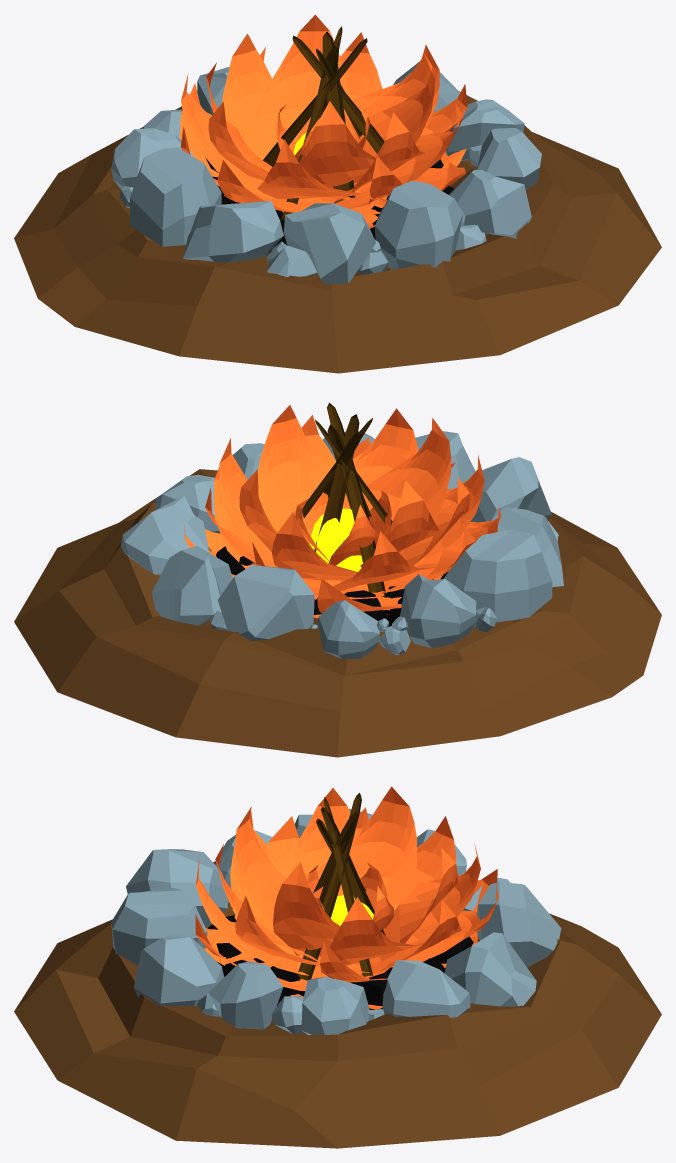
The model's file is bonflower in rock ring.fbx.
3 renders of one model, top to bottom at view 1: azimuth 30°, elevation 25°; view 2: azimuth 150°, elevation 25°; view 3: azimuth 270°, elevation 25°, orthographic.
Visible parts, largest first — view 1: Circle.005, Circle.006, Plane.069, Circle.008, Circle.007, Circle.001; view 2: Circle.005, Circle.006, Plane.069, Circle.007, Circle.008, Circle.001; view 3: Circle.005, Circle.006, Plane.069, Circle.007, Circle.001, Circle.008.
Part boxes in pixels (box(x1,y1,x2,y2)): Circle.005: box(14, 91, 661, 373); Circle.006: box(111, 62, 541, 284); Plane.069: box(180, 14, 470, 228); Circle.008: box(263, 31, 367, 203); Circle.007: box(281, 26, 384, 220); Circle.001: box(205, 157, 454, 252); Circle.005: box(14, 469, 661, 757); Circle.006: box(121, 431, 563, 659); Plane.069: box(184, 405, 500, 618); Circle.007: box(314, 414, 392, 552); Circle.008: box(302, 402, 386, 597); Circle.001: box(216, 546, 447, 626); Circle.005: box(14, 861, 661, 1148); Circle.006: box(111, 809, 561, 1035); Plane.069: box(182, 786, 498, 1009); Circle.007: box(297, 793, 385, 980); Circle.001: box(207, 915, 473, 1009); Circle.008: box(313, 797, 373, 976).
Size of the model in its own units: 156 by 55.64 by 153.
